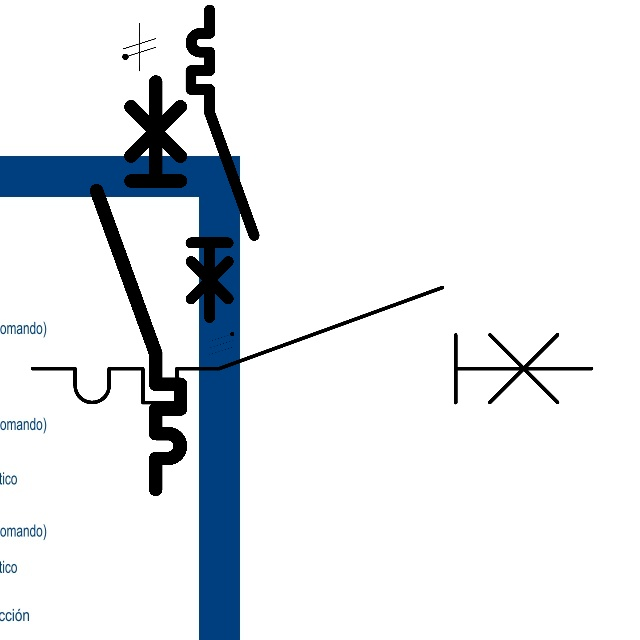interruptor_termomagnetico: (18, 273, 606, 417), (86, 71, 191, 500), (183, 2, 262, 325)
